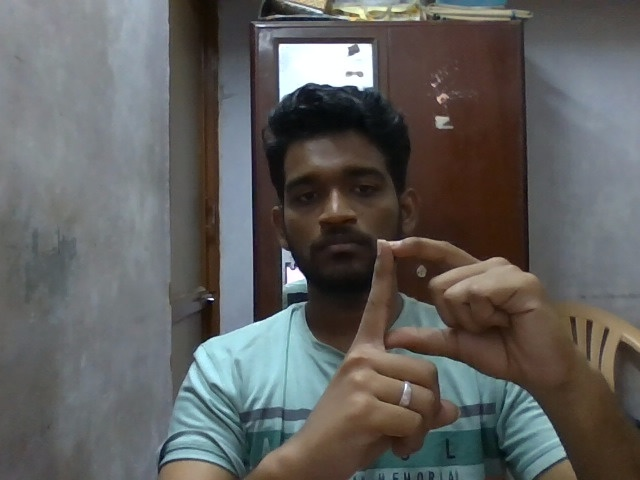D: (319, 233, 571, 464)
